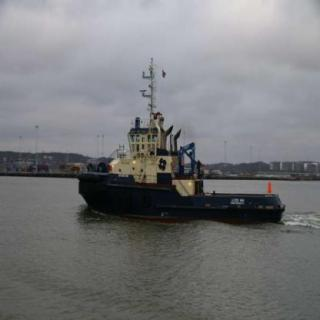Tug Boat: (77, 69, 285, 218)
